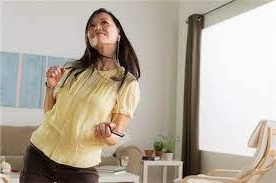not_fallen: (18, 5, 141, 183)
